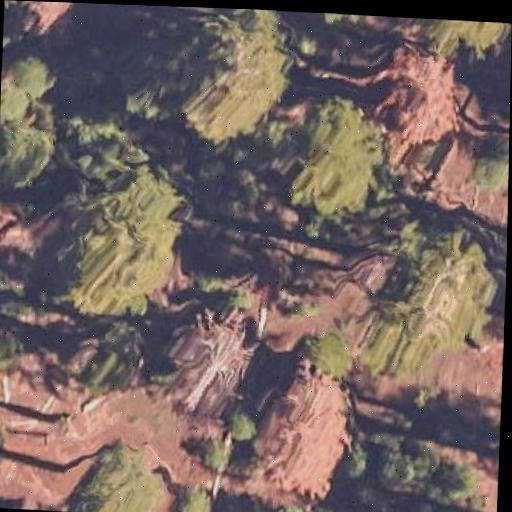tree-top: (38, 161, 211, 319), (352, 224, 502, 379), (162, 6, 312, 150), (276, 87, 391, 222), (56, 429, 183, 512), (0, 61, 70, 187), (402, 17, 512, 70), (287, 318, 361, 388), (466, 125, 510, 197)
